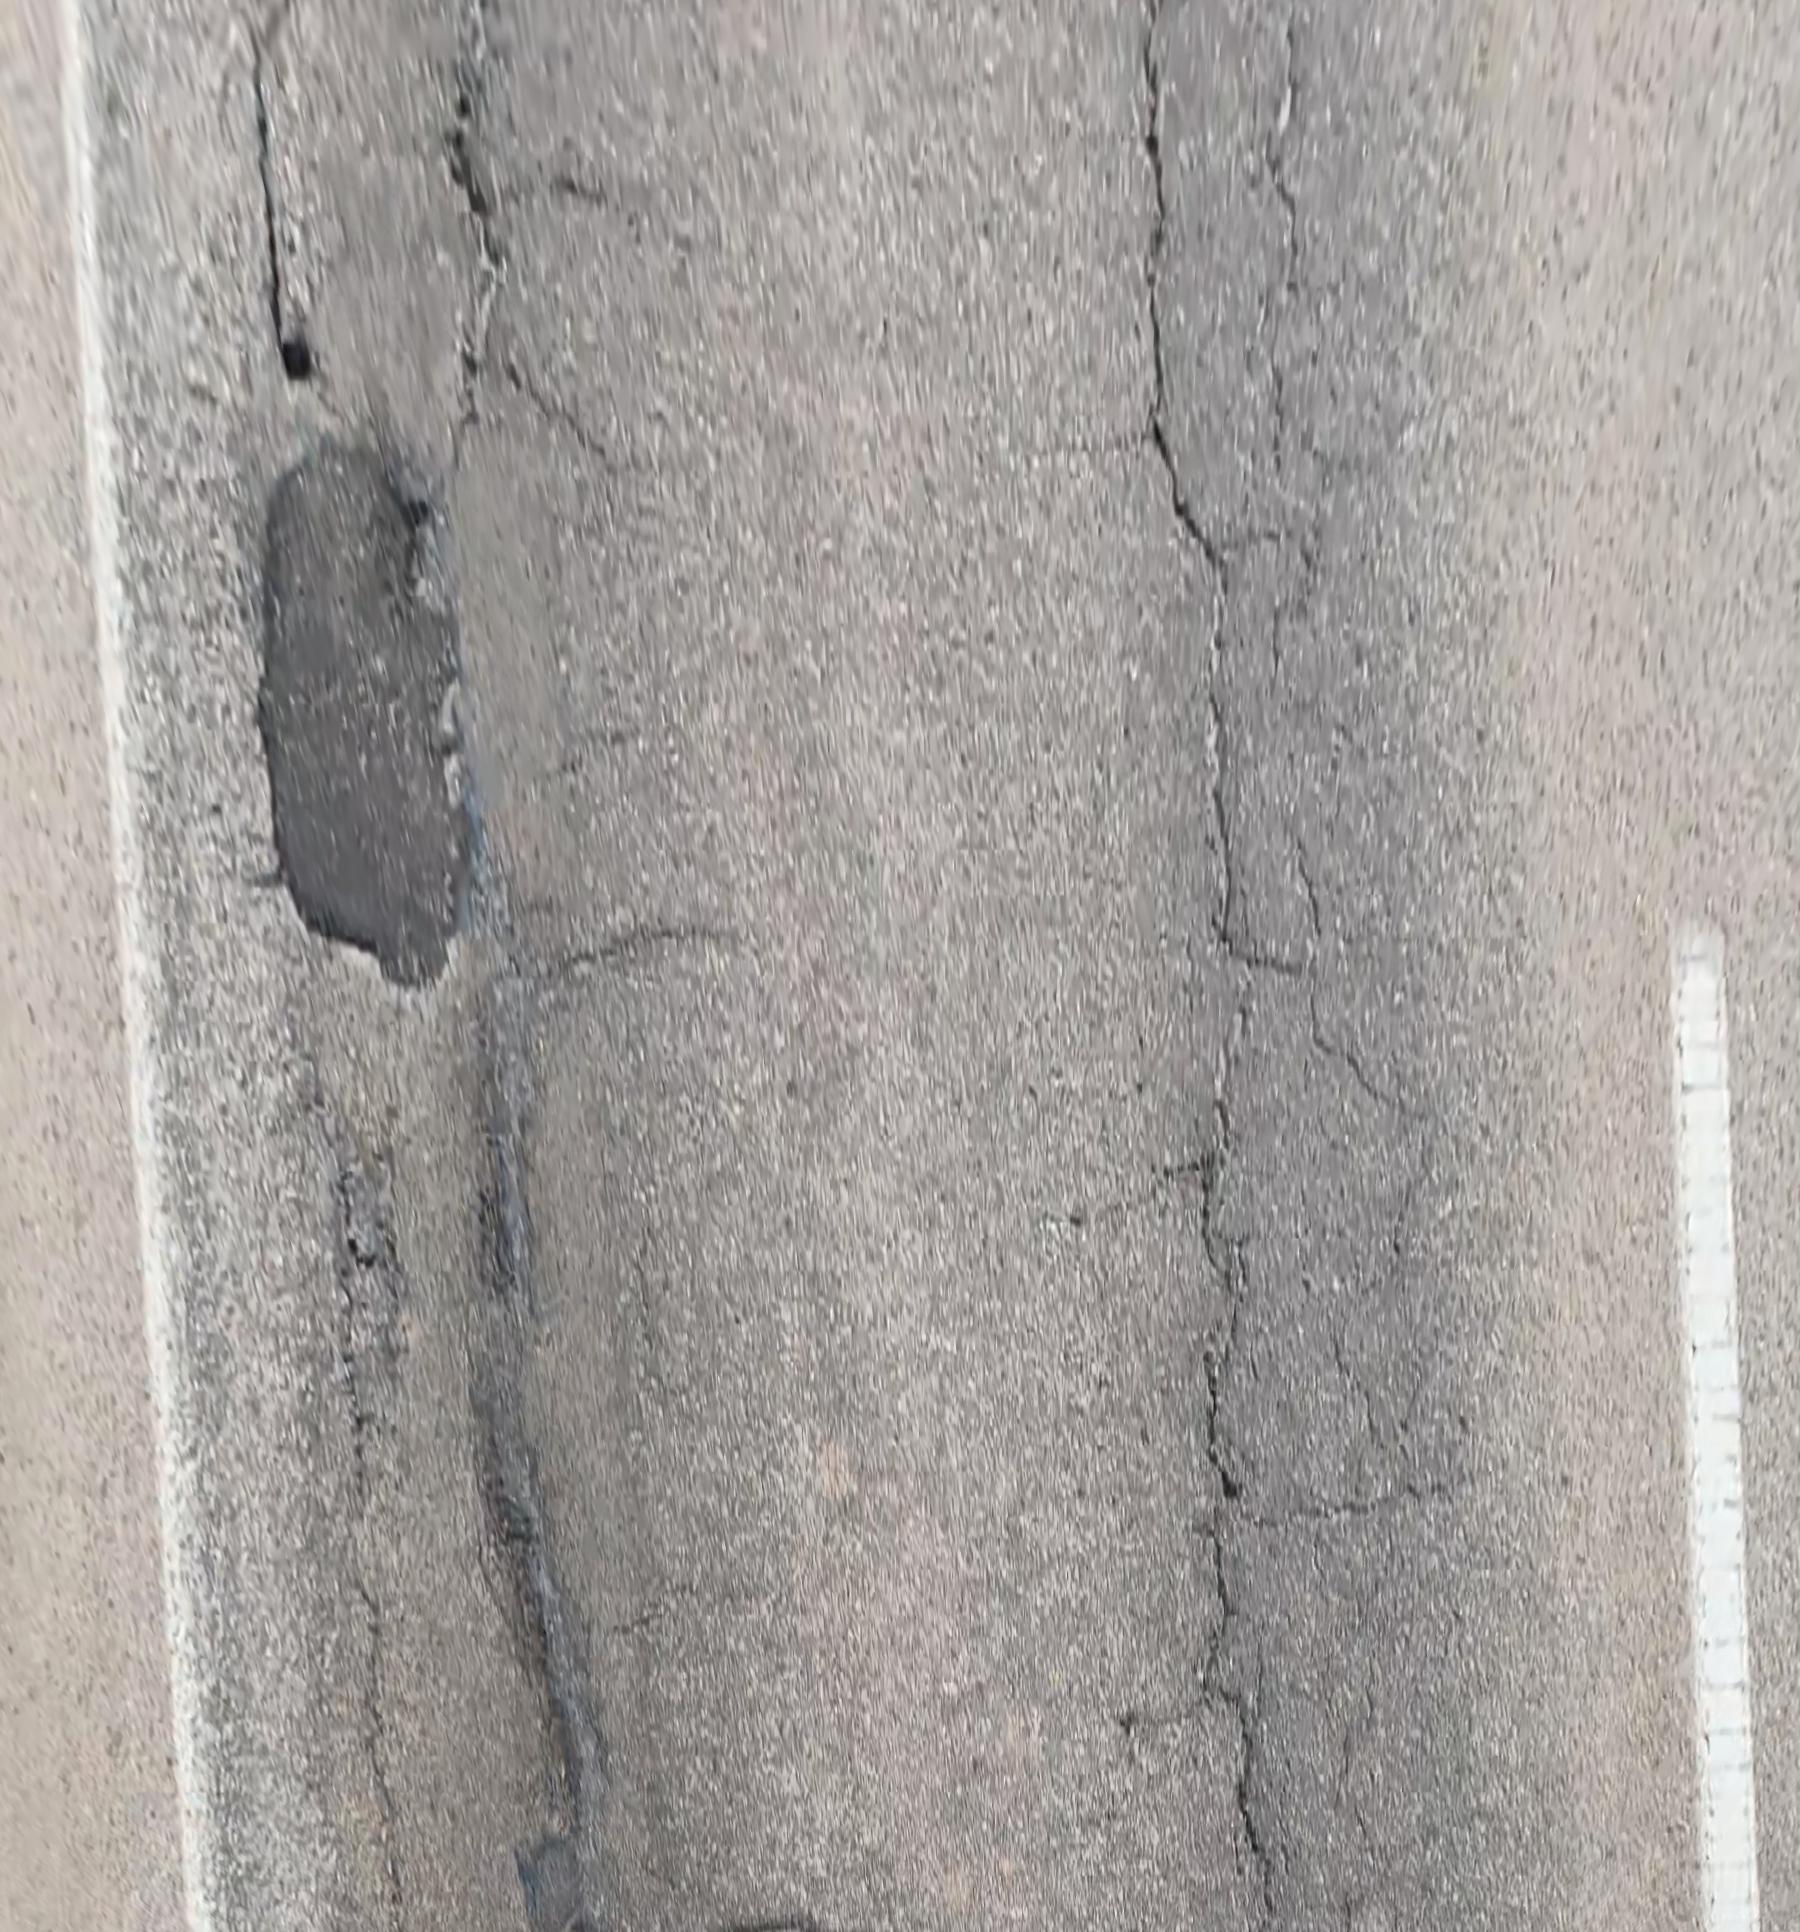pothole_patch_good: (249, 425, 474, 995)
